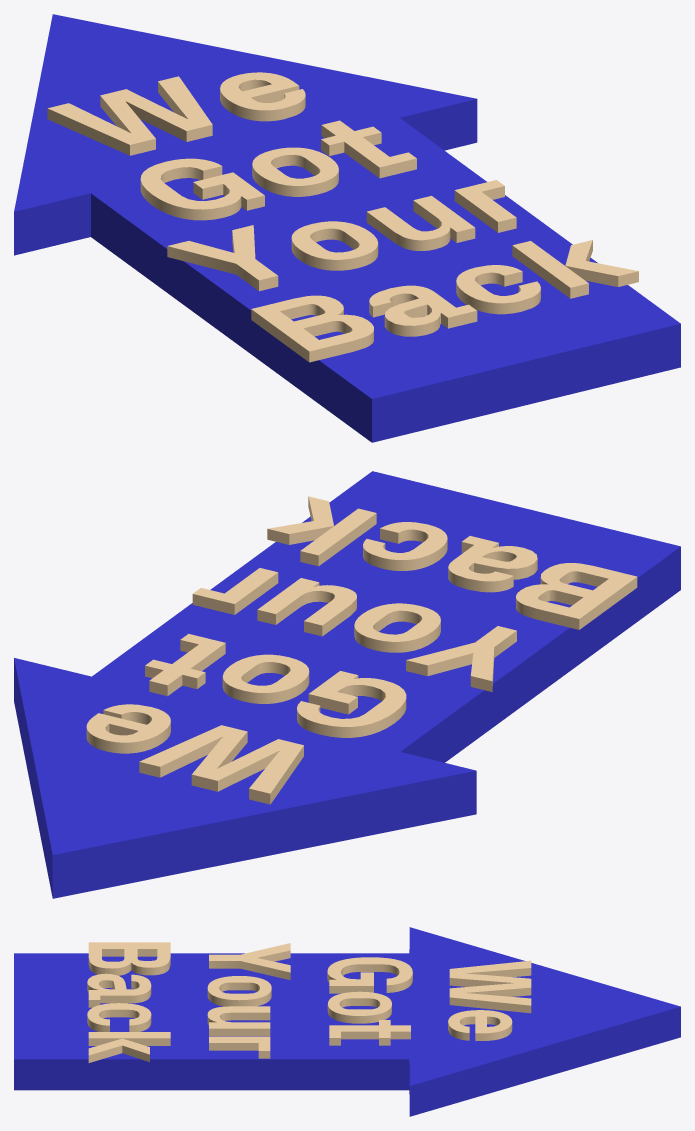
The model's file is arrow.dae.
3 renders of one model, top to bottom at view 1: azimuth 30°, elevation 25°; view 2: azimuth 150°, elevation 25°; view 3: azimuth 270°, elevation 25°, orthographic. The views are drawn at different scales.
Parts seen in each view (by area): view 1: group_0, We_Got_Your_Back_3 (×14); view 2: group_0, We_Got_Your_Back_3 (×14); view 3: group_0, We_Got_Your_Back_3 (×16).
Part boxes in pixels (x1=…): group_0: x1=14, y1=14, x2=680, y2=442; We_Got_Your_Back_3 (×14): x1=47, y1=72, x2=638, y2=362; group_0: x1=14, y1=471, x2=680, y2=898; We_Got_Your_Back_3 (×14): x1=86, y1=496, x2=637, y2=804; group_0: x1=14, y1=927, x2=680, y2=1116; We_Got_Your_Back_3 (×16): x1=87, y1=942, x2=531, y2=1062.
Bounding box in the file's own units: 34.92 × 61.89 × 3.94.
